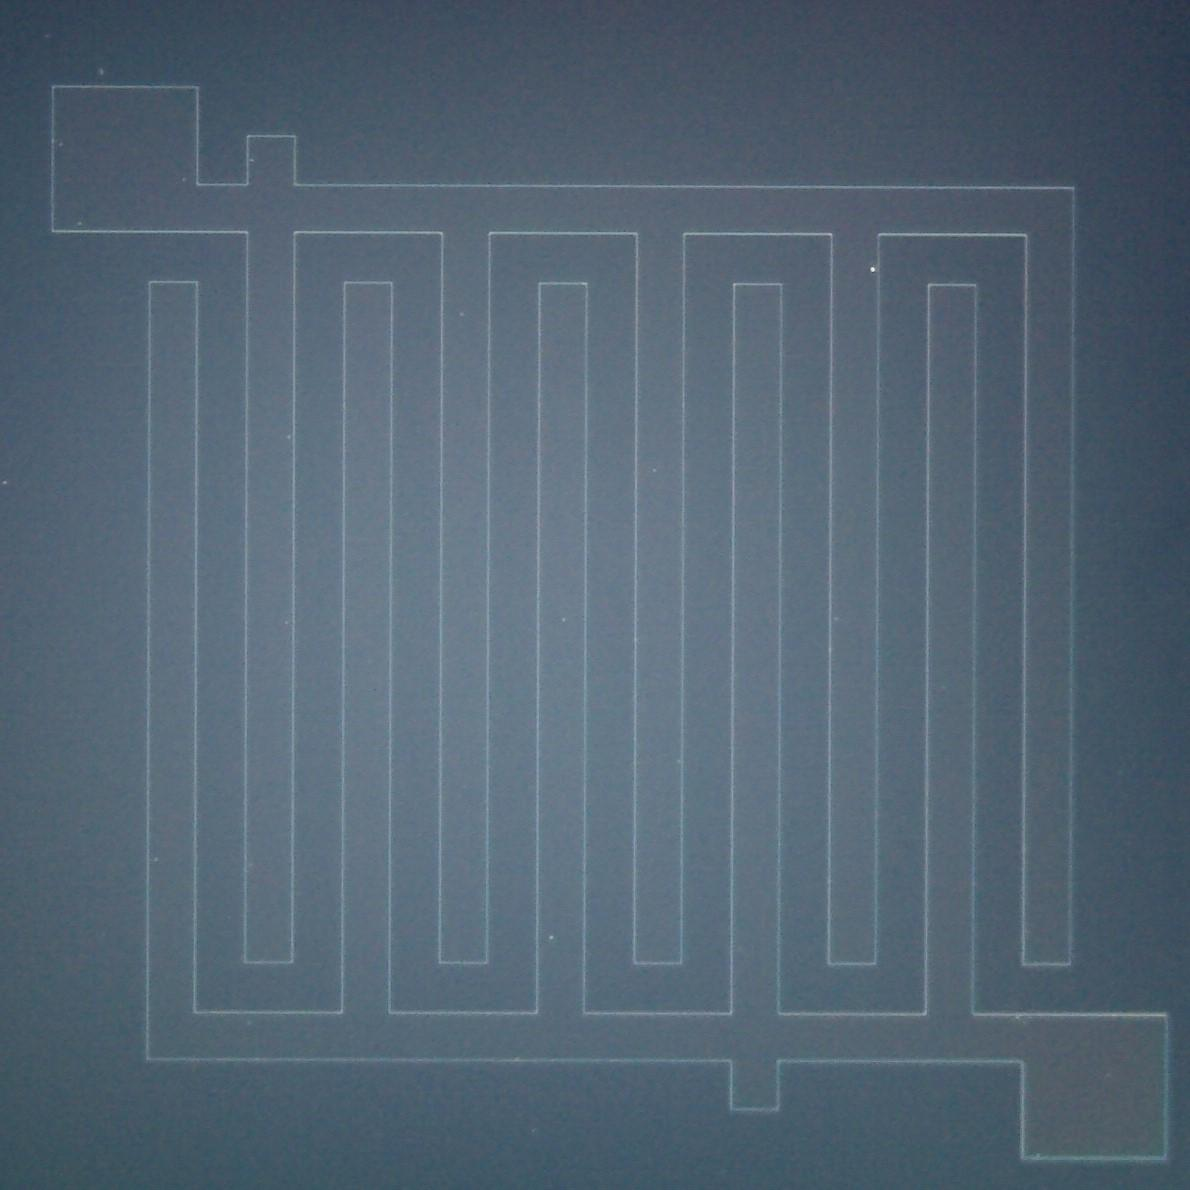project: (704, 1042, 802, 1125), (230, 119, 318, 207)
s_point: (167, 166, 195, 194), (240, 149, 263, 171), (643, 460, 665, 482), (240, 853, 260, 876), (92, 60, 111, 82), (451, 305, 473, 325), (0, 473, 21, 493), (240, 1015, 259, 1034), (278, 427, 299, 446), (669, 753, 689, 772), (38, 26, 56, 46), (53, 135, 71, 154), (1030, 1146, 1048, 1164), (526, 1121, 543, 1139), (863, 260, 879, 277), (555, 612, 571, 629), (544, 930, 560, 945), (72, 214, 87, 229), (510, 1052, 525, 1067), (150, 852, 166, 867), (279, 615, 293, 631), (1010, 1008, 1024, 1023), (831, 612, 845, 626)
